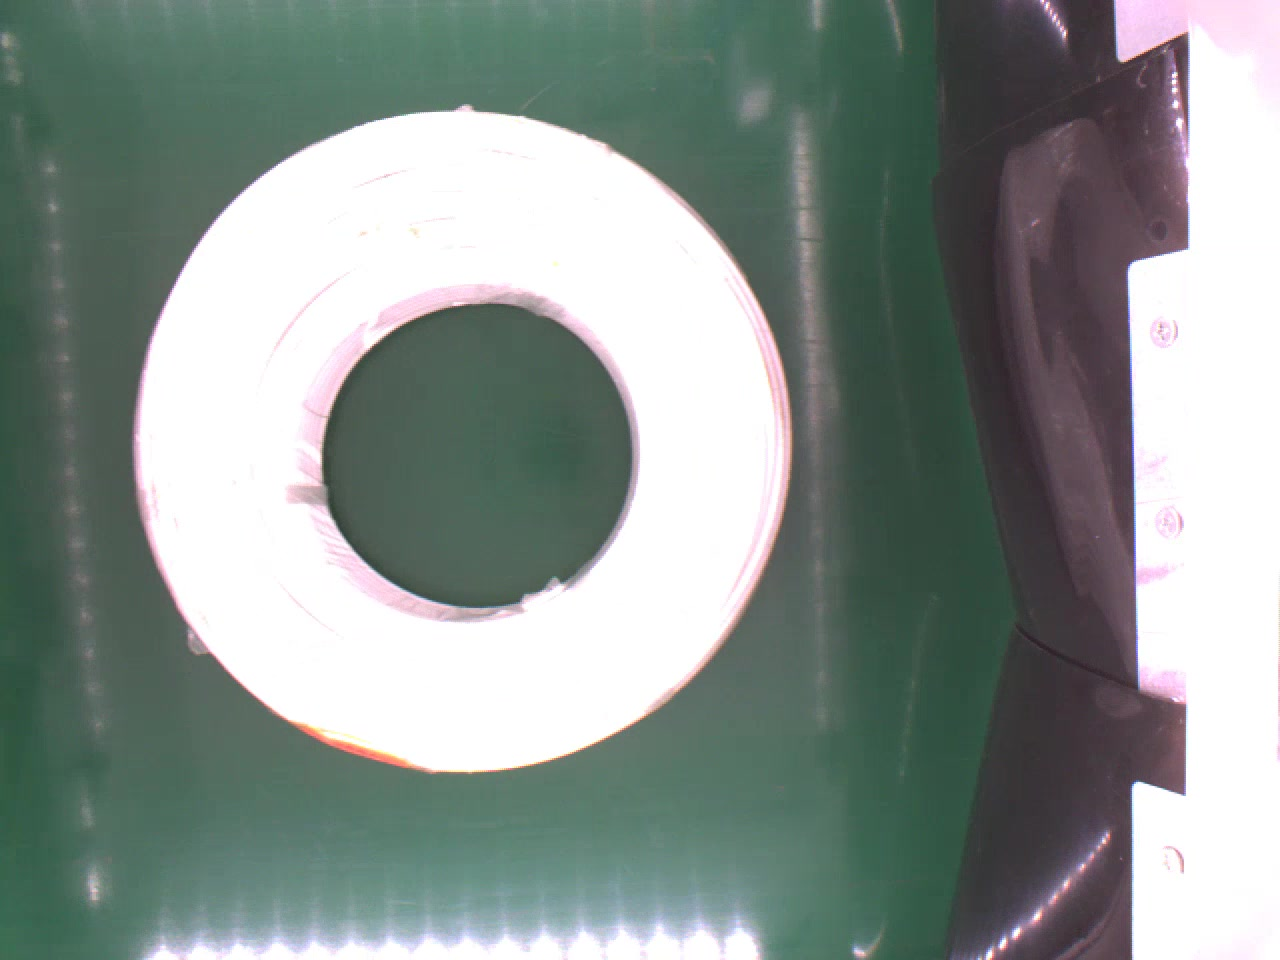white: (130, 102, 796, 787)
